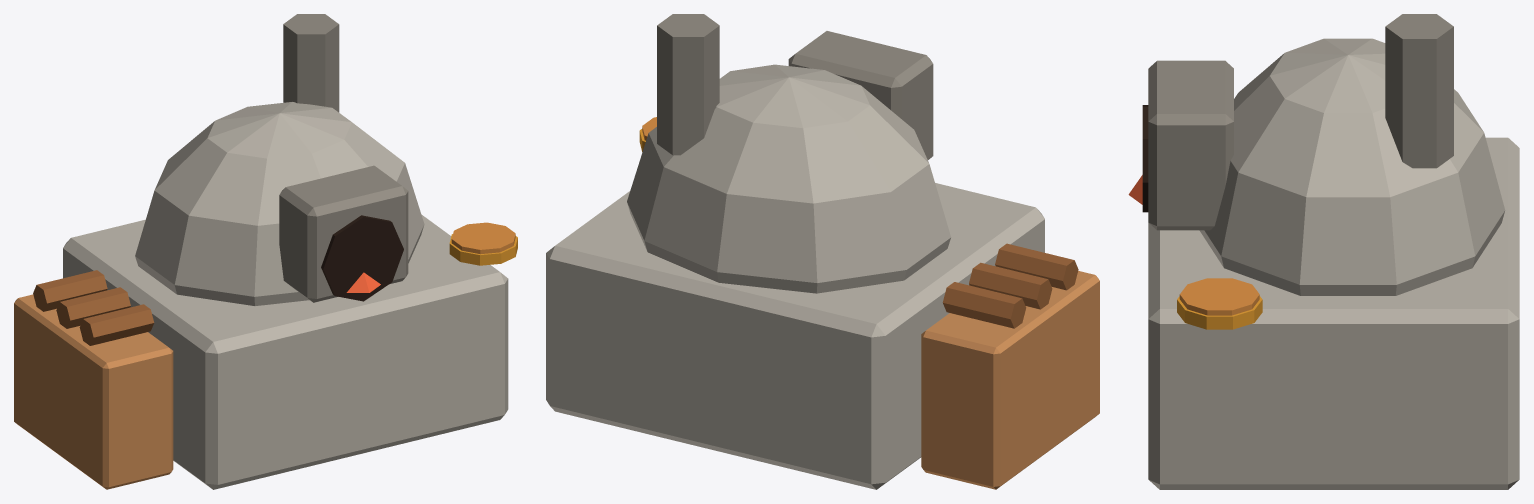
File: station_pie_oven.glb
The picture shows the model from 3 angles, left to right: view 1: azimuth 30°, elevation 25°; view 2: azimuth 150°, elevation 25°; view 3: azimuth 270°, elevation 25°; orthographic projection. The views are drawn at different scales.
Parts seen in each view (by area): view 1: station_pie_oven; view 2: station_pie_oven; view 3: station_pie_oven.
Part boxes in pixels (<box>): station_pie_oven: <box>14,14,517,489</box>; station_pie_oven: <box>546,14,1099,489</box>; station_pie_oven: <box>1128,14,1519,489</box>.
Bounding box in the file's own units: 2.02 × 1.6 × 1.37.
